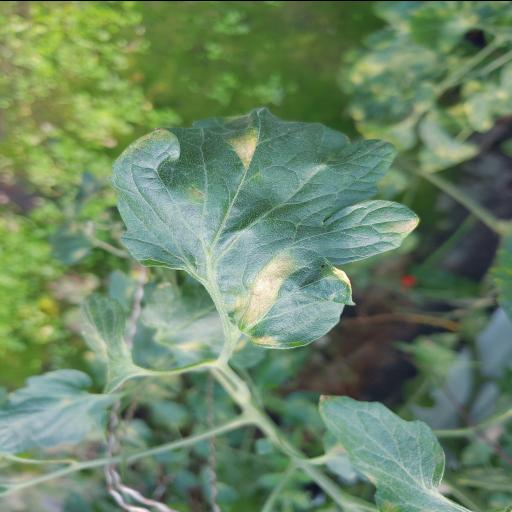disease_tomato: (109, 108, 419, 348)
